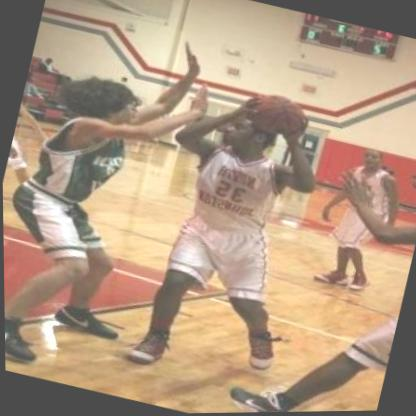basketball: (244, 85, 316, 148)
